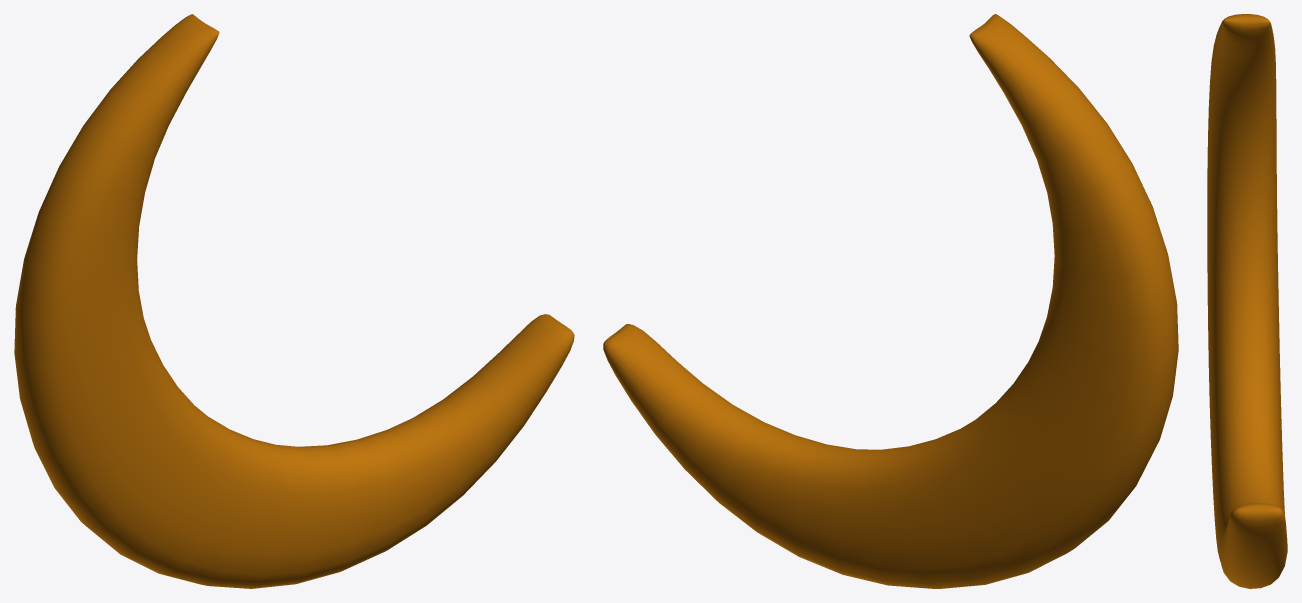
The model's file is moon.FBX.
The picture shows the model from 3 angles, left to right: view 1: azimuth 30°, elevation 25°; view 2: azimuth 150°, elevation 25°; view 3: azimuth 270°, elevation 25°; orthographic projection. The views are drawn at different scales.
Visible parts, largest first — view 1: Group11658; view 2: Group11658; view 3: Group11658.
Part boxes in pixels (x1,y1,x2,y2): Group11658: (14, 14, 574, 588); Group11658: (603, 14, 1178, 588); Group11658: (1207, 14, 1287, 588).
Bounding box in the file's own units: 35.08 × 35.28 × 5.14.
